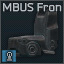Magpul MBUS Gen2 front flip-up sight: (0, 0, 64, 64)
